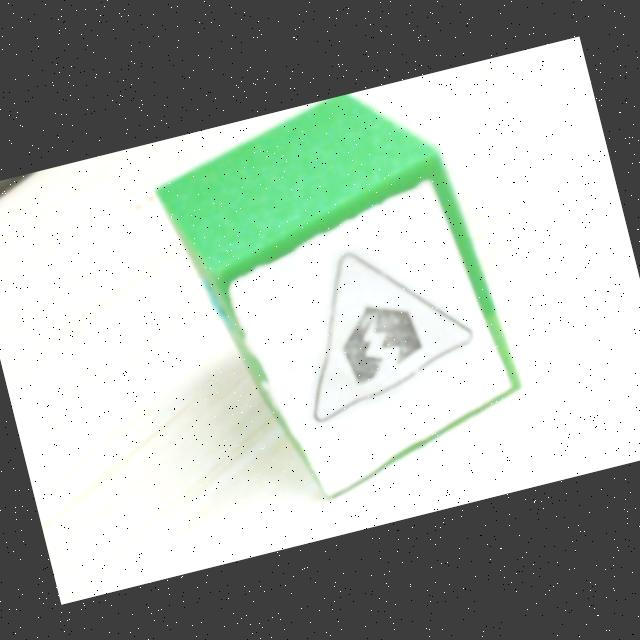Earthquake: (274, 228, 487, 428), (308, 251, 474, 428)
